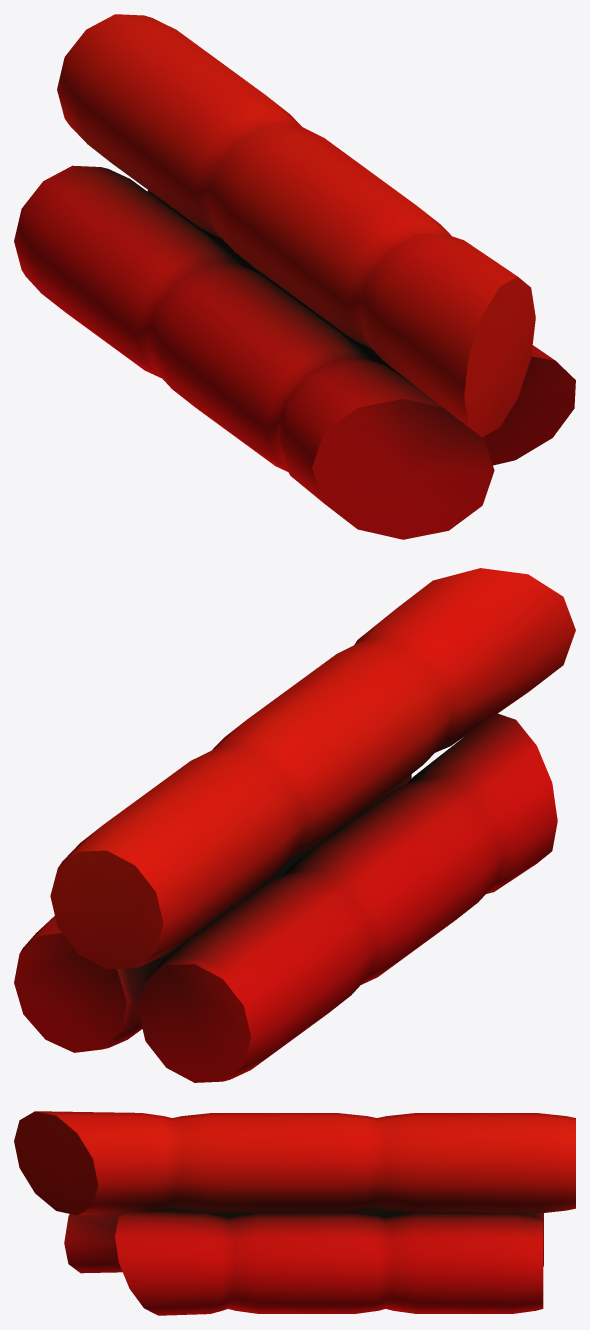
Rendered from SM_SugarCaneBunch.fbx.
The picture shows the model from 3 angles, top to bottom: view 1: azimuth 30°, elevation 25°; view 2: azimuth 150°, elevation 25°; view 3: azimuth 270°, elevation 25°; orthographic projection. The views are drawn at different scales.
Parts seen in each view (by area): view 1: SM_SugarCaneBunch; view 2: SM_SugarCaneBunch; view 3: SM_SugarCaneBunch.
Boxes of the visible parts, bbox=[...] form: SM_SugarCaneBunch: bbox=[14, 14, 575, 539]; SM_SugarCaneBunch: bbox=[14, 568, 575, 1082]; SM_SugarCaneBunch: bbox=[14, 1111, 575, 1315].
Size of the model in its own units: 0.1598 by 0.1507 by 0.4386.
